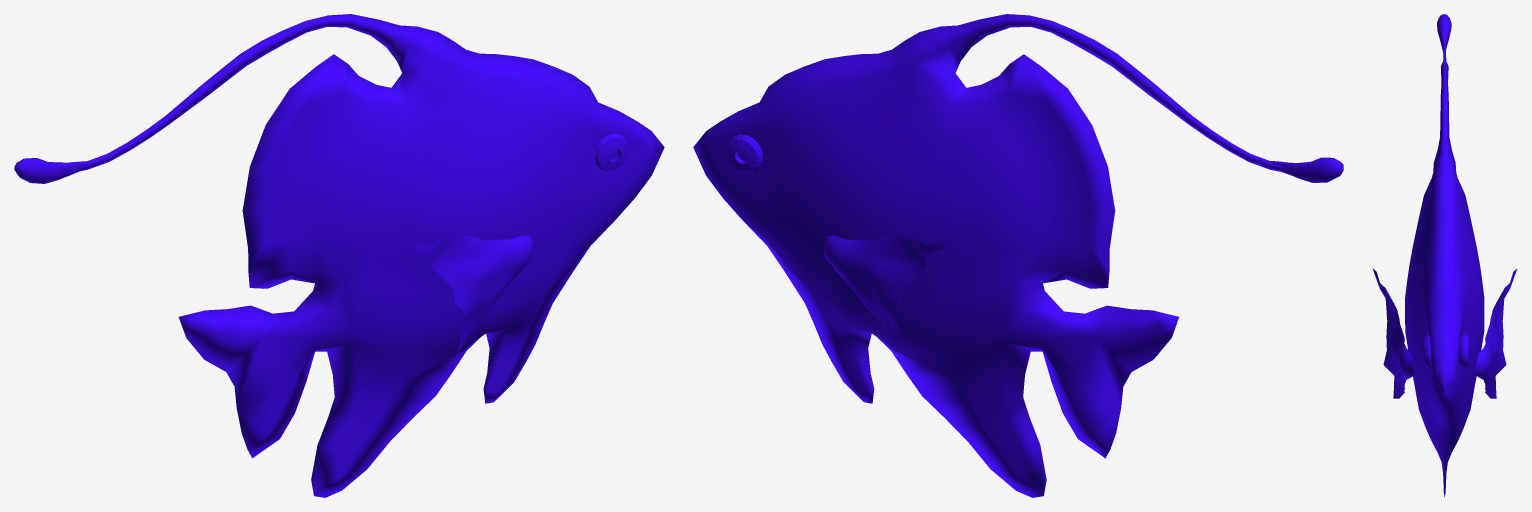
The model's file is Fish Done.fbx.
The picture shows the model from 3 angles, left to right: view 1: azimuth 30°, elevation 25°; view 2: azimuth 150°, elevation 25°; view 3: azimuth 270°, elevation 25°; orthographic projection. The views are drawn at different scales.
Visible parts, largest first — view 1: Body_low; view 2: Body_low; view 3: Body_low.
Part boxes in pixels (x1,y1,x2,y2): Body_low: [14, 14, 664, 497]; Body_low: [693, 14, 1343, 497]; Body_low: [1373, 14, 1516, 496].
Size of the model in its own units: 1.57 by 1.11 by 0.3683.
